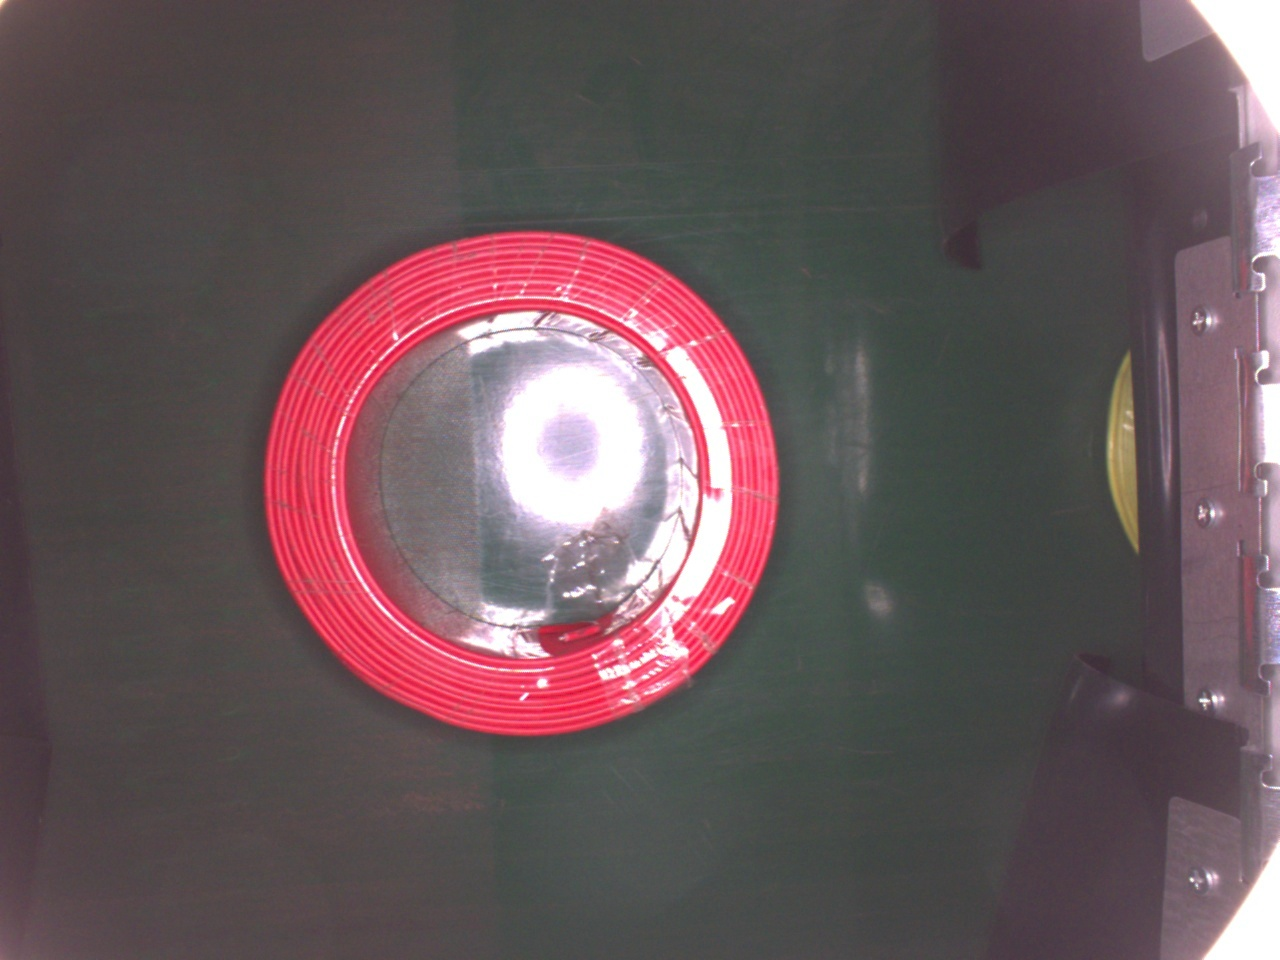red: (262, 225, 772, 737)
